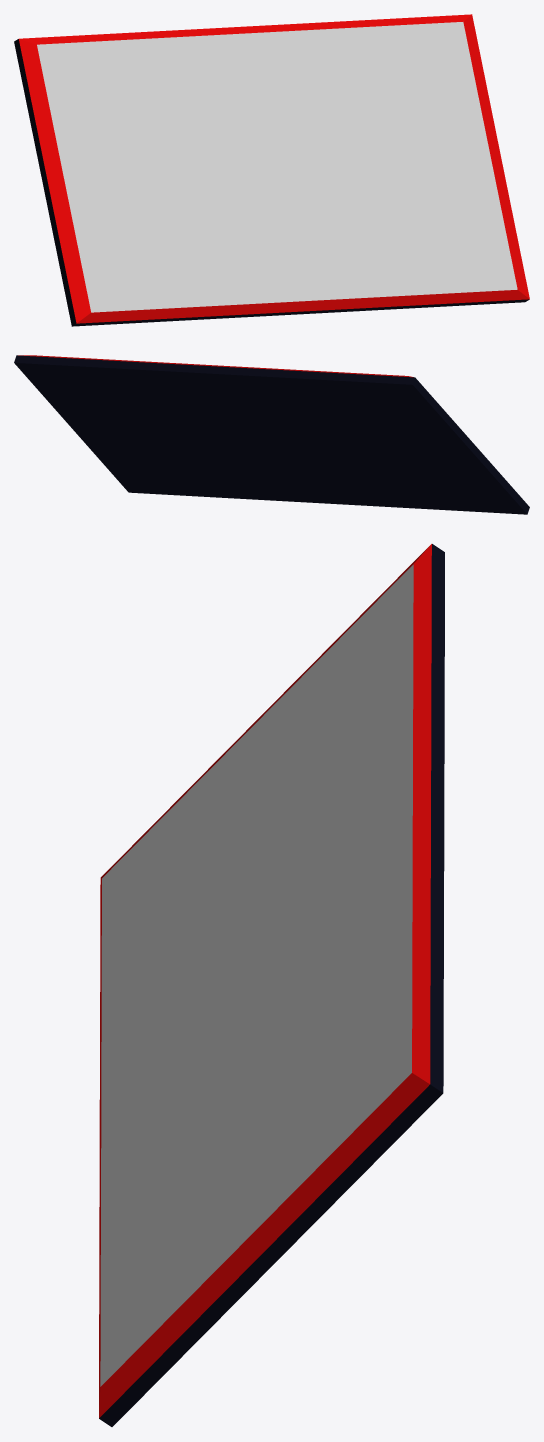
Rendered from b5_body.obj.
The picture shows the model from 3 angles, top to bottom: view 1: azimuth 30°, elevation 25°; view 2: azimuth 150°, elevation 25°; view 3: azimuth 270°, elevation 25°; orthographic projection. The views are drawn at different scales.
Visible parts, largest first — view 1: b5; view 2: b5; view 3: b5.
Boxes of the visible parts, x1=… form: b5: x1=14, y1=14, x2=529, y2=326; b5: x1=14, y1=355, x2=529, y2=514; b5: x1=99, y1=544, x2=444, y2=1426.
Bounding box in the file's own units: 0.0589 × 0.0343 × 0.0204.
